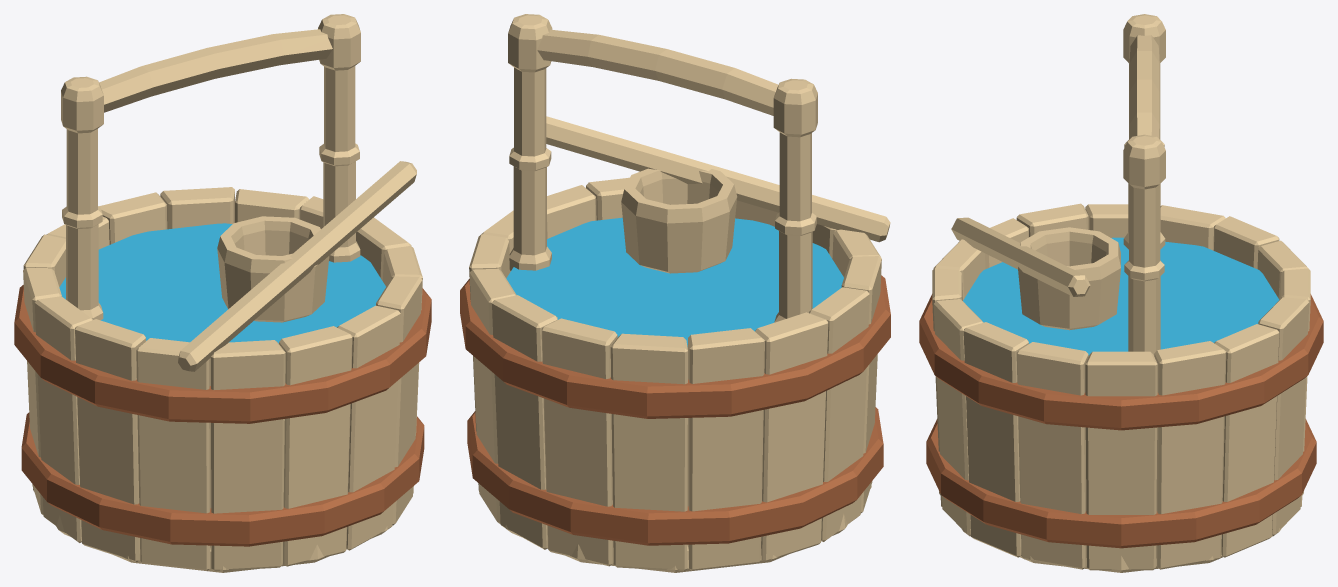
The model's file is bambooBucket.glb.
3 views of the same model, side by side, from view 1: azimuth 30°, elevation 25°; view 2: azimuth 150°, elevation 25°; view 3: azimuth 270°, elevation 25° (orthographic). The views are drawn at different scales.
Visible parts, largest first — view 1: bambooBucket; view 2: bambooBucket; view 3: bambooBucket.
Part boxes in pixels (x1,y1,x2,y2): bambooBucket: (14, 14, 431, 572); bambooBucket: (460, 14, 890, 572); bambooBucket: (919, 14, 1323, 572).
Bounding box in the file's own units: 0.7 × 0.8 × 0.7.
1 material, 1 textured.
